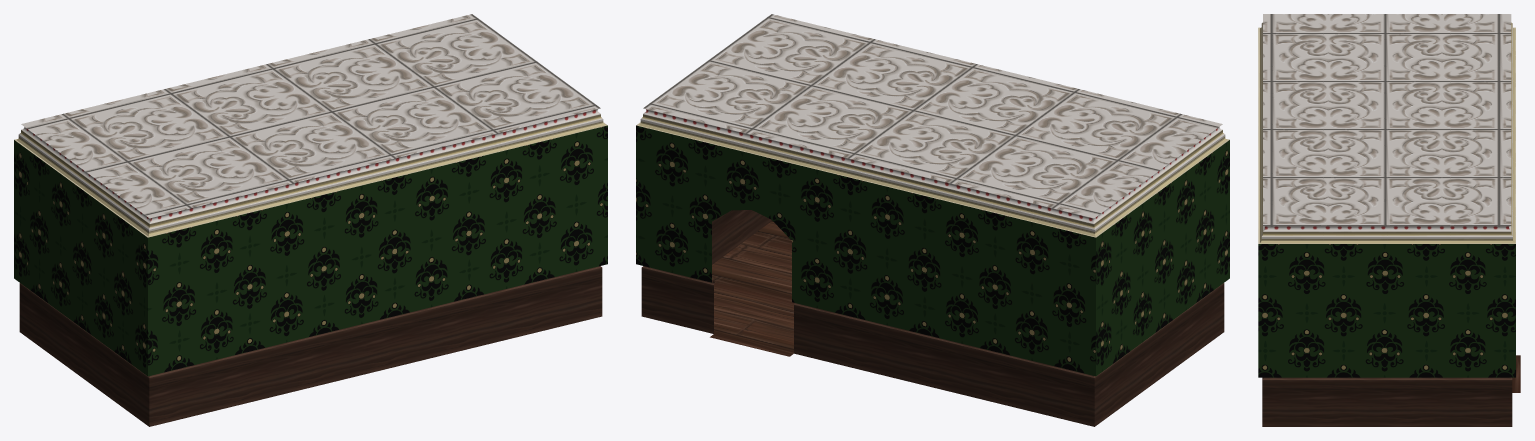
File: Bathroom_Downstairs_FINAL.fbx
3 renders of one model, left to right at view 1: azimuth 30°, elevation 25°; view 2: azimuth 150°, elevation 25°; view 3: azimuth 270°, elevation 25°, orthographic. The views are drawn at different scales.
Parts seen in each view (by area): view 1: Ceiling004; view 2: Ceiling004; view 3: Ceiling004.
Boxes of the visible parts, x1,y1,x2,y2 form: Ceiling004: (14,14,607,426); Ceiling004: (636,14,1229,426); Ceiling004: (1258,14,1520,426).
Bounding box in the file's own units: 800 × 346 × 410.
